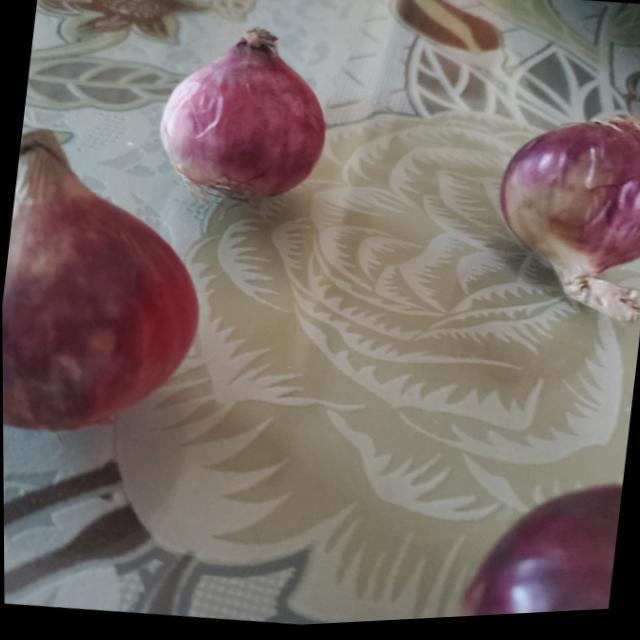onion: (1, 119, 222, 452), (158, 17, 341, 210), (493, 109, 640, 288), (458, 479, 621, 621)
